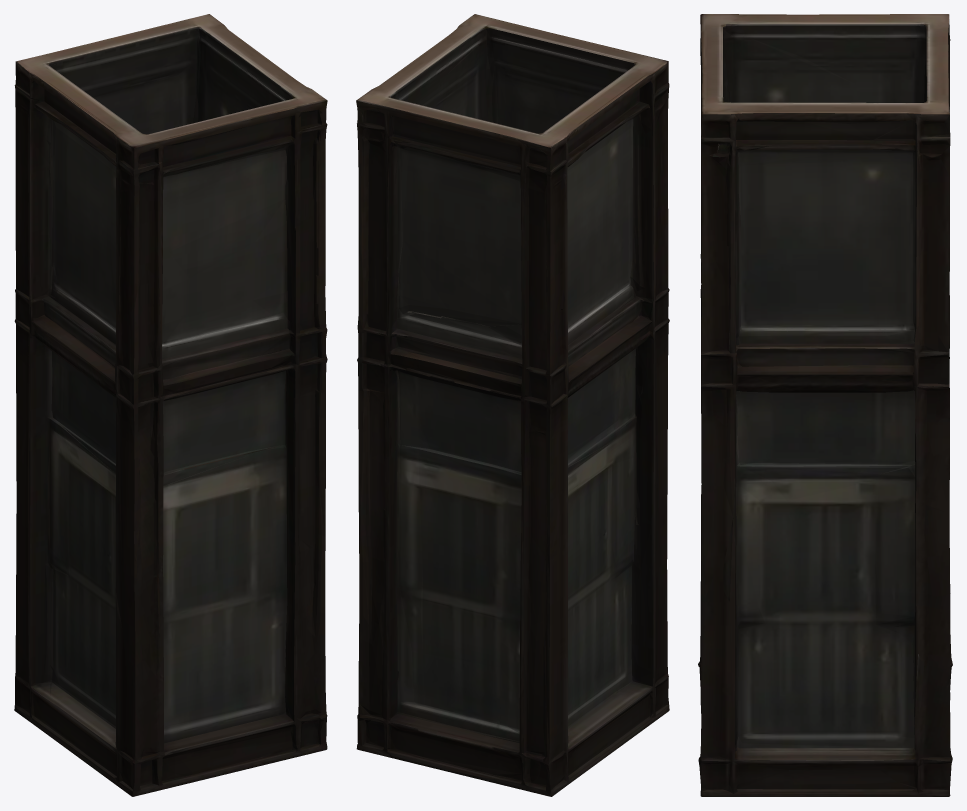
3 views of the same model, side by side, from view 1: azimuth 30°, elevation 25°; view 2: azimuth 150°, elevation 25°; view 3: azimuth 270°, elevation 25° (orthographic). The views are drawn at different scales.
Parts seen in each view (by area): view 1: geometry_0; view 2: geometry_0; view 3: geometry_0.
Boxes of the visible parts, x1=… form: geometry_0: x1=14, y1=14, x2=327, y2=796; geometry_0: x1=356, y1=14, x2=669, y2=796; geometry_0: x1=698, y1=14, x2=952, y2=796.
Bounding box in the file's own units: 0.3167 × 1 × 0.3381.
Materials: 1 (1 with a texture image).
